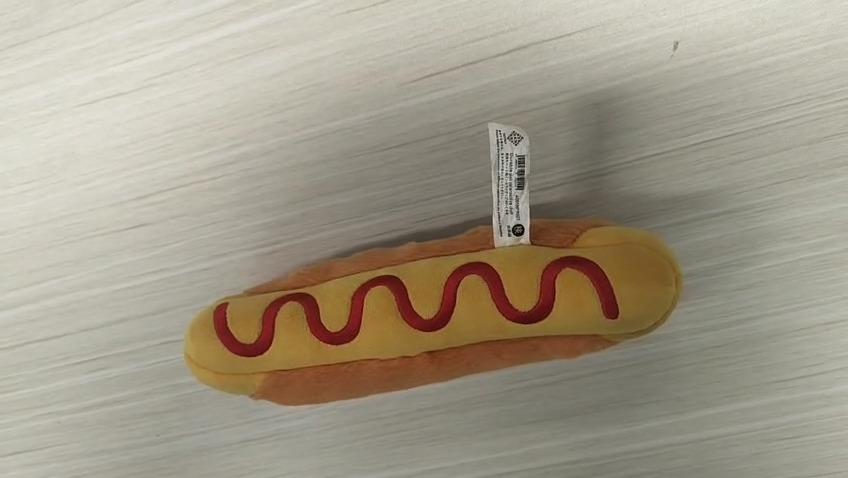hotdog: (182, 215, 683, 406)
